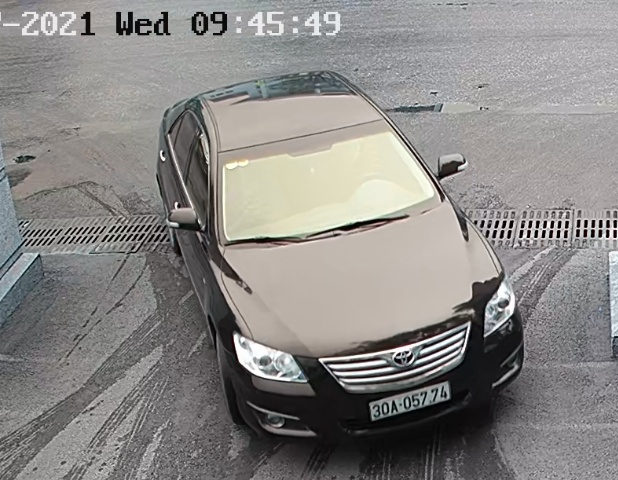vehicle plate: (361, 382, 462, 417)
